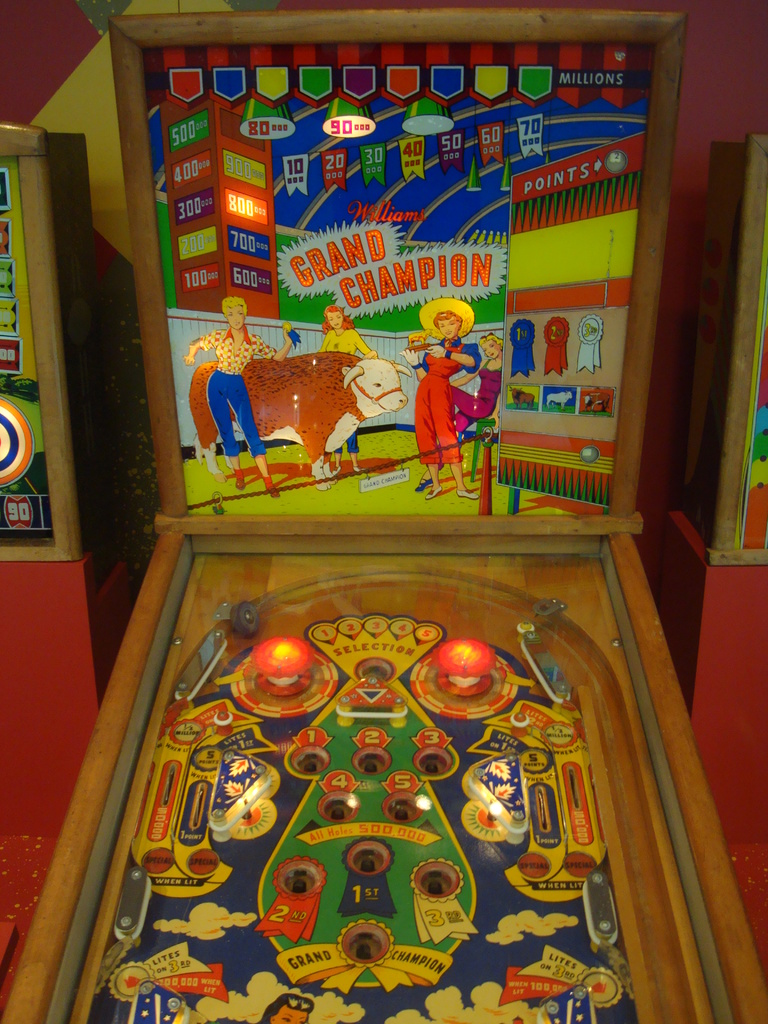Person: (183, 299, 302, 495), (401, 300, 479, 500), (416, 335, 502, 494), (316, 304, 372, 472)
